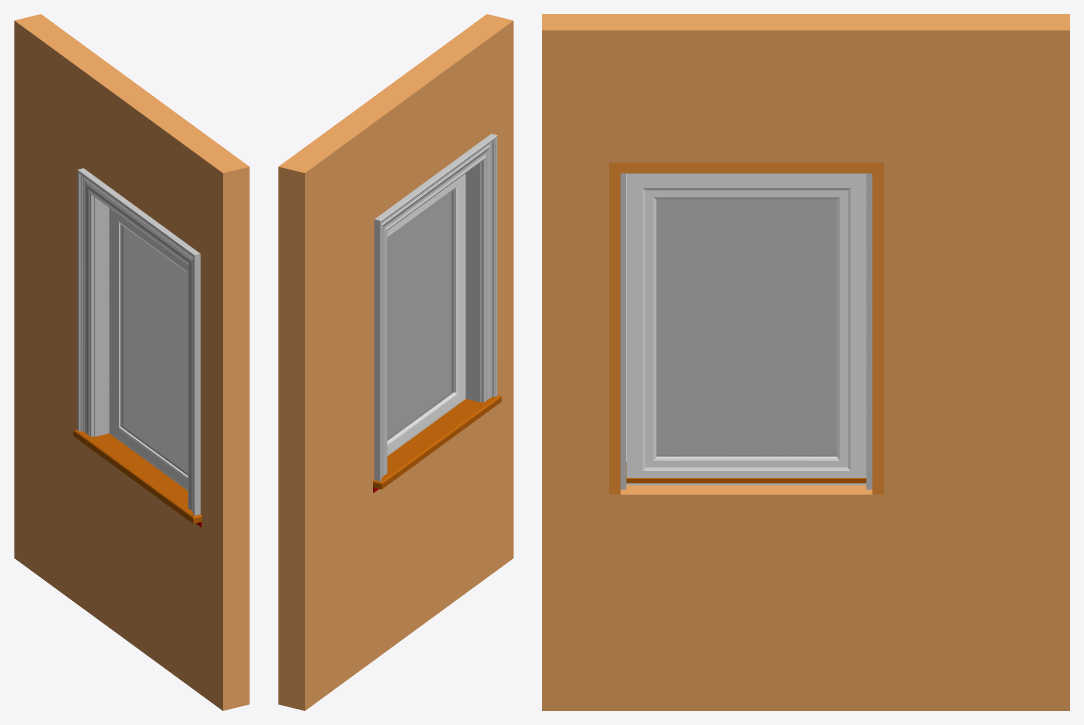
The model's file is 3D Сборка 1.obj.
The picture shows the model from 3 angles, left to right: view 1: azimuth 30°, elevation 25°; view 2: azimuth 150°, elevation 25°; view 3: azimuth 270°, elevation 25°; orthographic projection. The views are drawn at different scales.
Bounding box in the file's own units: 0.221 × 3.2 × 2.25.
